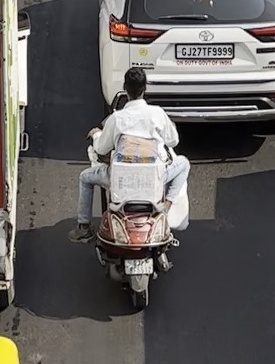BikeWithRider: (69, 54, 201, 322)
NoHelmet: (116, 63, 155, 105)
